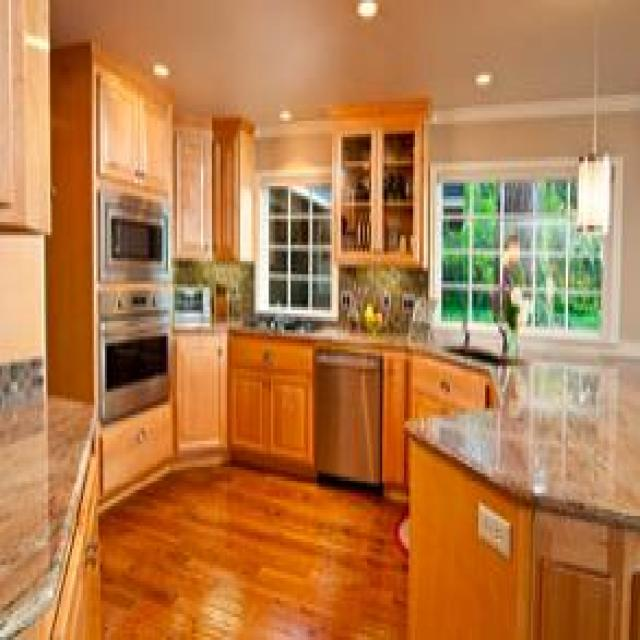dishwasher: (312, 340, 380, 493)
